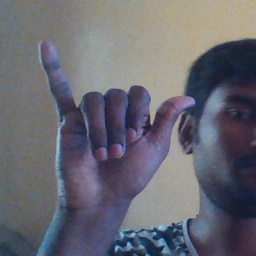J: (37, 34, 196, 207)
